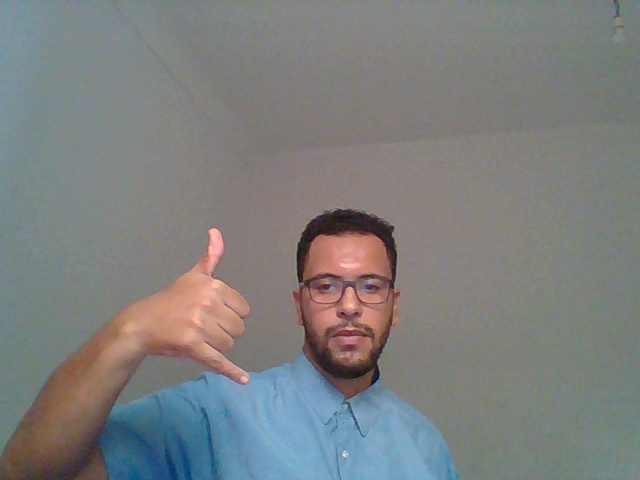callme: (31, 180, 259, 452)
